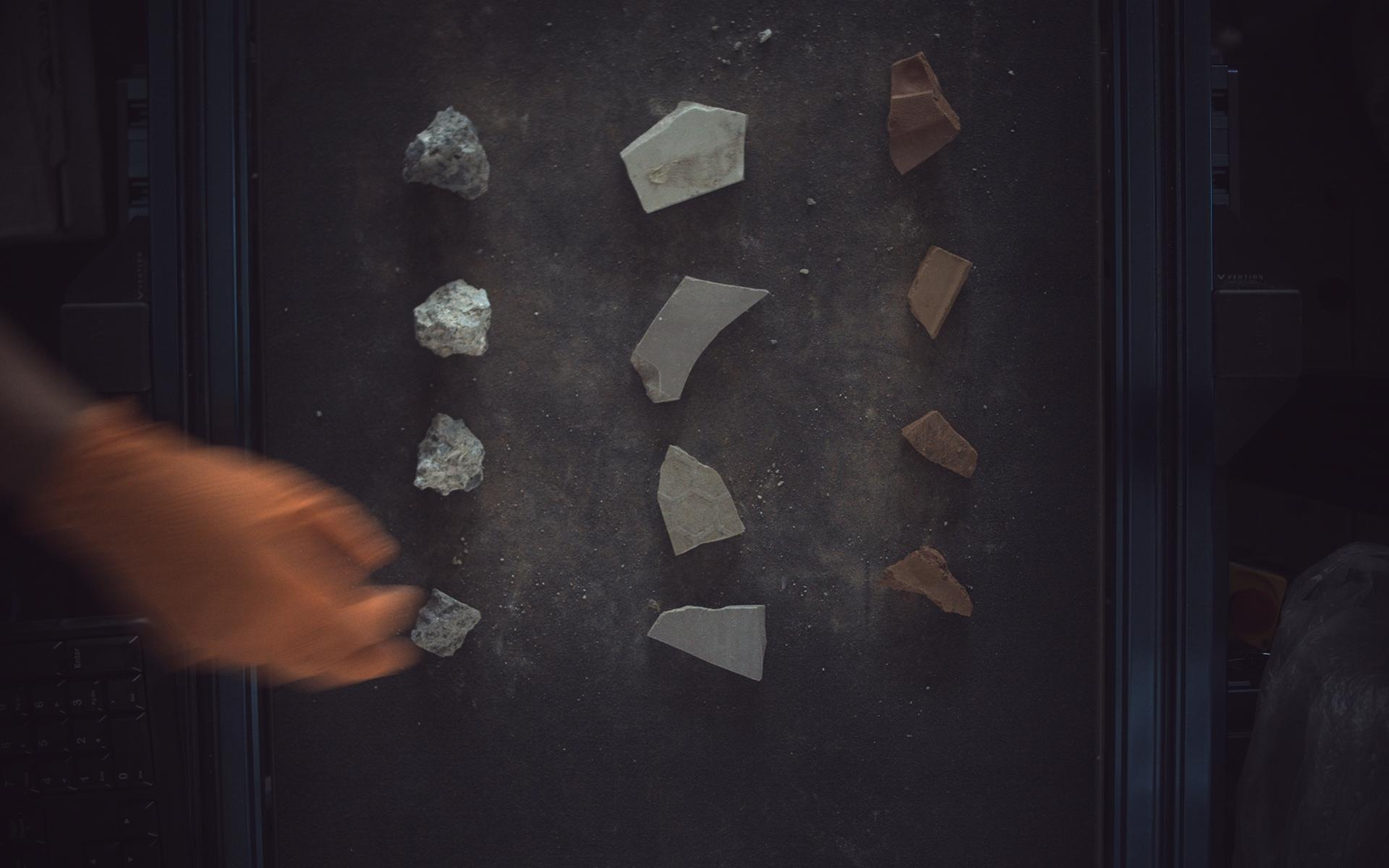brick: (889, 51, 963, 173), (880, 545, 974, 617), (910, 246, 974, 338), (905, 411, 980, 478)
concrete: (403, 106, 490, 200), (414, 278, 491, 357), (414, 414, 485, 495), (411, 590, 481, 658)
tile: (632, 276, 770, 403), (621, 101, 747, 212), (658, 446, 746, 556), (649, 605, 768, 681)
